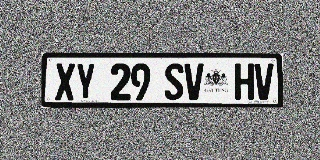2: (111, 63, 130, 100)
9: (131, 63, 150, 100)
H: (235, 63, 254, 100)
S: (164, 63, 184, 100)
V: (184, 63, 203, 100), (254, 63, 273, 100)
X: (55, 63, 75, 100)
Y: (76, 63, 95, 100)
